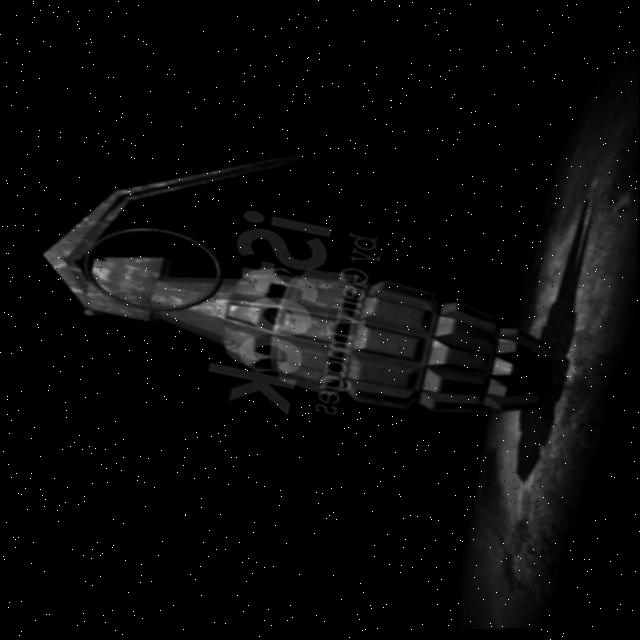grenade: (11, 99, 582, 446)
